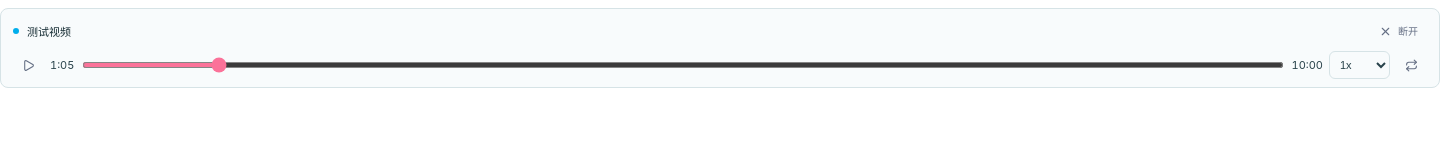
Test: clicking the time opens an editable input seeded with the current position
Click the button named "修改播放时间".
click(62, 65)  # box [50,58,74,72]
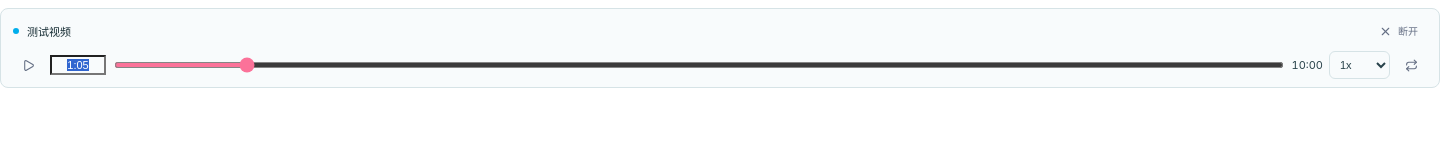
Now the field named "跳转到时间" holds "1:05", box [50,55,106,75]
